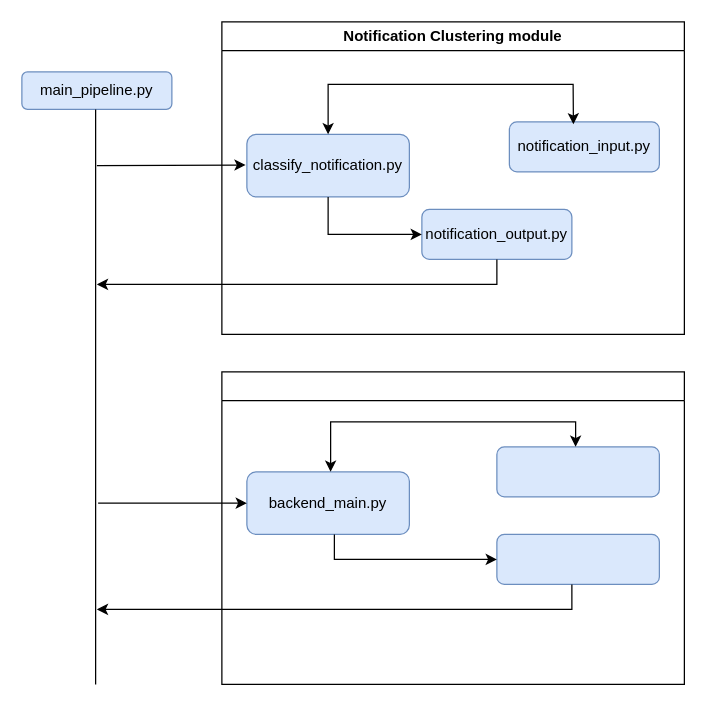
The diagram is 706 pixels wide and 708 high, and some of its shapes have lost their labels. The shapes that lost their labels are listed below. From the top down, each one's box as (x1, y1, x2, y2) in pixels, then its label:
(496, 446, 659, 497): backend_input.py
(221, 371, 684, 684): Backend Notification Sender module
(496, 533, 659, 584): backend_out put.py
